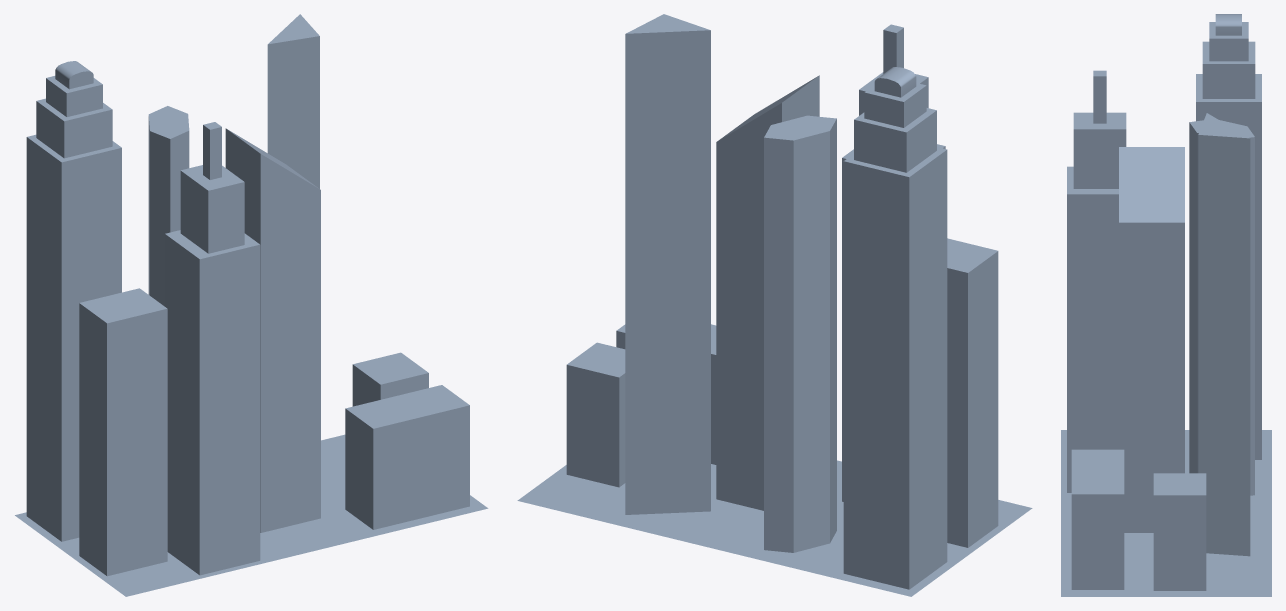
File: Cybercity_mod1.fbx
The picture shows the model from 3 angles, left to right: view 1: azimuth 30°, elevation 25°; view 2: azimuth 150°, elevation 25°; view 3: azimuth 270°, elevation 25°; orthographic projection. The views are drawn at different scales.
Parts seen in each view (by area): view 1: Left_side_City_mod1_tall_building3; view 2: Left_side_City_mod1_tall_building3; view 3: Left_side_City_mod1_tall_building3.
Boxes of the visible parts, box(x1,y1,x2,y2) form: Left_side_City_mod1_tall_building3: box(15, 14, 488, 596); Left_side_City_mod1_tall_building3: box(517, 14, 1032, 596); Left_side_City_mod1_tall_building3: box(1061, 14, 1271, 596).
Bounding box in the file's own units: 30 × 36.04 × 16.
